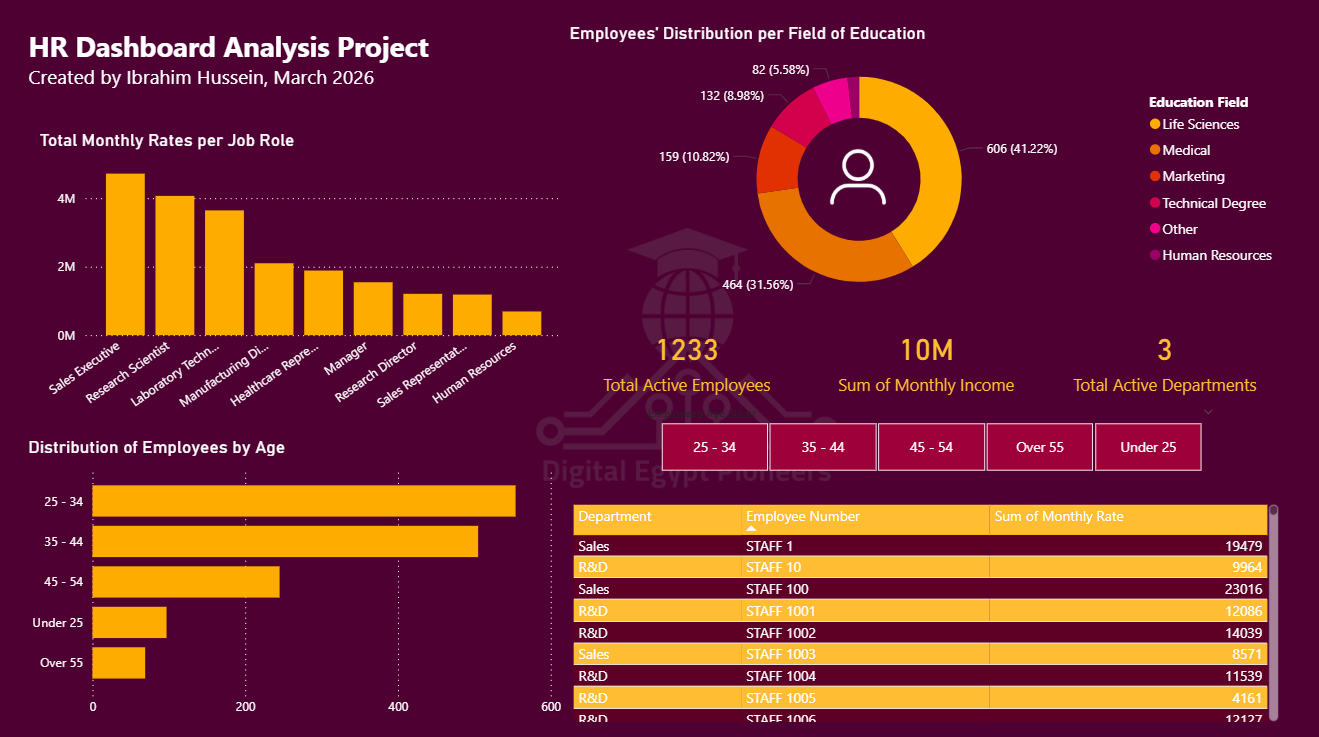

The dashboard page shown, as its layout file describes it:
{"tool":"powerbi","page":{"name":"Page 4","canvas":[1280,720],"ordinal":0},"visuals":[{"type":"image","box":[520,208.6,292.9,285.7],"z":0},{"type":"card","fields":{"Values":["HR.Measure"]},"box":[550,310,231.6,81.2],"z":0,"group":"g1"},{"type":"textbox","box":[25.7,25.7,408.6,80],"z":1000},{"type":"card","fields":{"Values":["Sum(HR.Monthly Income)"]},"box":[781.6,310,230.4,81.2],"z":1000,"group":"g1"},{"type":"lineClusteredColumnComboChart","title":"Total Monthly Rates per Job Role","fields":{"Category":["HR.Job Role"],"Y":["Sum(HR.Monthly Rate)"]},"box":[35.7,128.6,514.3,281.4],"z":2000},{"type":"card","fields":{"Values":["Count(HR.Department)"]},"box":[1012.1,310,230.4,81.2],"z":2000,"group":"g1"},{"type":"clusteredBarChart","title":"Distribution of Employees by Age","fields":{"Category":["HR.CF_age band"],"Y":["CountNonNull(HR.CF_age band)"]},"box":[25.7,424.3,524.3,280],"z":3000},{"type":"donutChart","title":"Employees'' Distribution per Field of Education","fields":{"Category":["HR.Education Field"],"Y":["CountNonNull(HR.Education Field)"]},"box":[547.1,25.7,697.1,284.3],"z":4000},{"type":"tableEx","fields":{"Values":["HR.Department","HR.Employee Number","Sum(HR.Monthly Rate)"]},"box":[550,485.7,691.4,218.6],"z":5000},{"type":"group","id":"g1","title":"Group 1","box":[550,310,691.4,81.4],"z":6000},{"type":"slicer","fields":{"Values":["HR.CF_age band"]},"box":[615.7,391.4,571.4,74.3],"z":7000},{"type":"image","box":[792.9,118.6,77.1,112.9],"z":8000}]}

Visuals, with their boxes in screenshot pixels (x1, y1, x2, y2), scaled from the page's 1280x720 canvas onto the 1319x737 screenshot:
image: detection(536, 214, 838, 506)
card - HR.Measure: detection(567, 317, 805, 400)
textbox: detection(26, 26, 448, 108)
card - Sum(HR.Monthly Income): detection(805, 317, 1043, 400)
"Total Monthly Rates per Job Role" lineClusteredColumnComboChart: detection(37, 132, 567, 420)
card - Count(HR.Department): detection(1043, 317, 1280, 400)
"Distribution of Employees by Age" clusteredBarChart: detection(26, 434, 567, 721)
"Employees'' Distribution per Field of Education" donutChart: detection(564, 26, 1282, 317)
tableEx - HR.Department x HR.Employee Number: detection(567, 497, 1279, 721)
"Group 1" group: detection(567, 317, 1279, 401)
slicer - HR.CF_age band: detection(634, 401, 1223, 477)
image: detection(817, 121, 897, 237)
